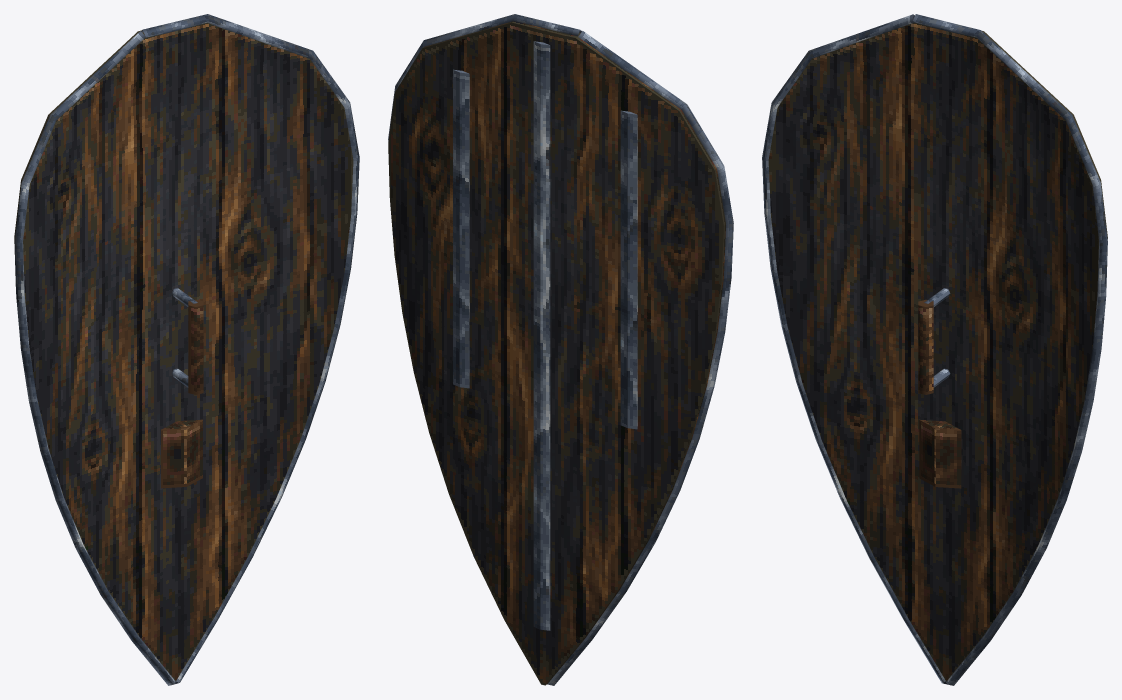
The model's file is banded_kite.glb.
3 renders of one model, left to right at view 1: azimuth 30°, elevation 25°; view 2: azimuth 150°, elevation 25°; view 3: azimuth 330°, elevation 25°, orthographic.
Parts seen in each view (by area): view 1: banded_kite; view 2: banded_kite; view 3: banded_kite.
Part boxes in pixels (x1,y1,x2,y2): banded_kite: [14, 14, 359, 685]; banded_kite: [388, 14, 733, 685]; banded_kite: [762, 14, 1107, 685].
Bounding box in the file's own units: 0.4939 × 0.9053 × 0.0815.
1 material, 1 textured.
